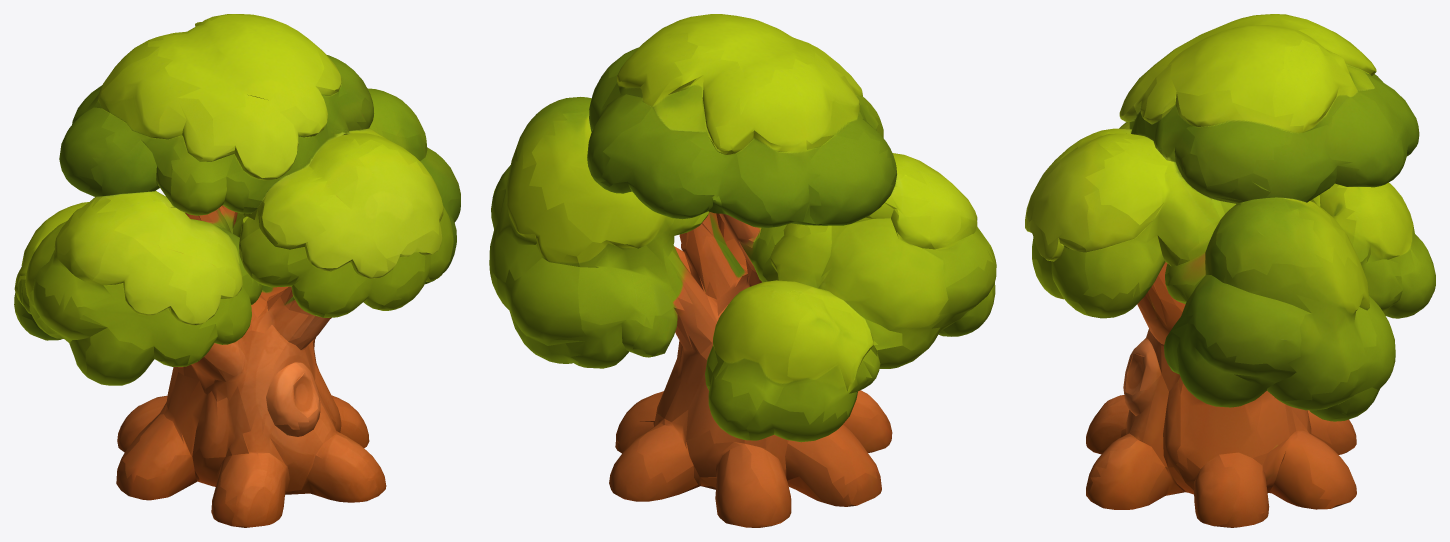
Rendered from wood_tree_oak.glb.
3 views of the same model, side by side, from view 1: azimuth 30°, elevation 25°; view 2: azimuth 150°, elevation 25°; view 3: azimuth 270°, elevation 25° (orthographic). The views are drawn at different scales.
Bounding box in the file's own units: 1.9 × 1.79 × 1.51.
Materials: 1 (1 with a texture image).
